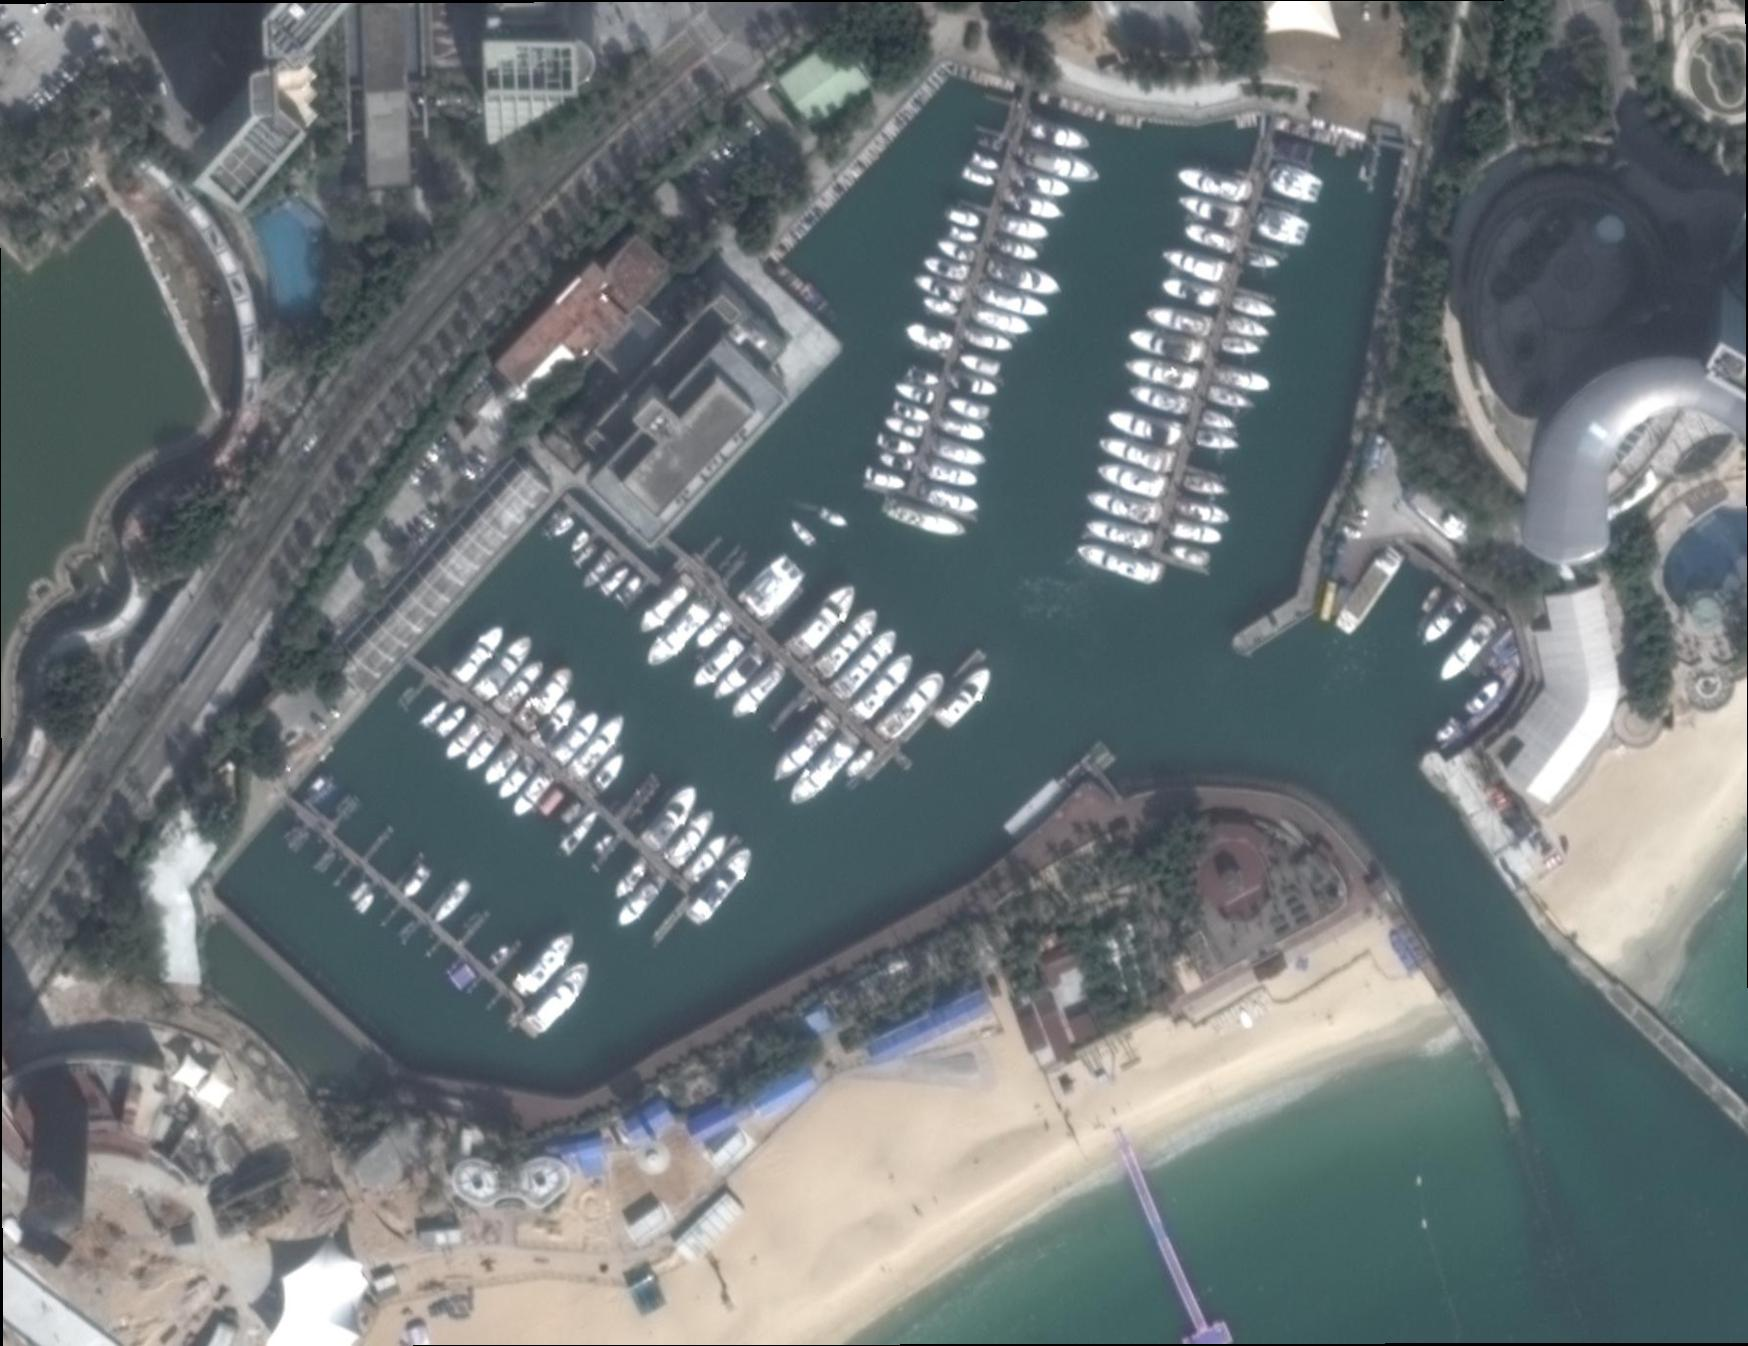harbor: (621, 437, 998, 809), (1066, 106, 1351, 599), (375, 599, 747, 944), (856, 81, 1113, 536), (262, 755, 569, 1034), (1102, 1120, 1235, 1345), (537, 488, 669, 621), (617, 772, 663, 826), (649, 894, 694, 944), (767, 686, 812, 734), (590, 833, 624, 874), (327, 796, 361, 834), (362, 826, 396, 864), (458, 911, 492, 946), (395, 853, 426, 891), (426, 881, 457, 918), (400, 676, 431, 710), (492, 942, 523, 976), (699, 534, 726, 561), (400, 919, 424, 947), (332, 861, 356, 888), (380, 901, 403, 929), (313, 845, 337, 871), (467, 976, 486, 995), (426, 939, 445, 959), (485, 993, 503, 1011)
ship: (781, 578, 863, 665), (1332, 544, 1407, 638), (515, 959, 595, 1042), (786, 725, 863, 812), (684, 843, 759, 929), (769, 706, 846, 788), (643, 592, 718, 674), (873, 667, 950, 745), (827, 625, 904, 703), (809, 605, 884, 684), (511, 927, 581, 1002), (509, 662, 580, 737), (470, 631, 539, 706), (636, 780, 706, 854), (1073, 536, 1165, 591), (849, 650, 918, 722), (566, 710, 632, 785), (1435, 612, 1502, 687), (1017, 137, 1105, 192), (932, 662, 1000, 732), (880, 495, 969, 543), (981, 252, 1065, 303), (727, 659, 789, 725), (636, 571, 697, 639), (710, 640, 772, 706), (660, 804, 720, 872), (450, 621, 509, 684), (977, 277, 1054, 327), (1085, 484, 1164, 530), (547, 707, 605, 771), (1127, 321, 1208, 366), (491, 656, 547, 720), (1106, 403, 1185, 448), (1097, 431, 1178, 475), (1177, 161, 1254, 205), (614, 870, 669, 930), (1096, 457, 1171, 501), (1124, 351, 1201, 393), (692, 635, 745, 693), (1264, 158, 1327, 208), (1083, 513, 1155, 556), (1252, 204, 1315, 252), (680, 831, 733, 889), (1177, 187, 1245, 230), (1163, 242, 1229, 286), (1024, 113, 1092, 156), (1146, 298, 1215, 339), (532, 696, 583, 751), (1421, 592, 1472, 648), (916, 478, 983, 519), (969, 303, 1035, 341), (1003, 187, 1066, 226), (1161, 271, 1225, 311), (511, 766, 556, 821), (494, 751, 539, 804), (1129, 380, 1194, 417), (444, 713, 489, 763), (462, 724, 505, 776), (923, 457, 983, 493), (1011, 165, 1072, 201), (931, 434, 989, 471), (1174, 495, 1232, 532), (559, 807, 602, 855), (1212, 361, 1271, 396), (996, 209, 1052, 246), (1182, 219, 1239, 256), (482, 739, 525, 788), (431, 878, 474, 926), (1170, 516, 1225, 551), (904, 318, 955, 356), (946, 368, 1001, 402), (1205, 382, 1260, 416), (588, 751, 629, 796), (1462, 677, 1508, 718), (921, 250, 974, 284), (912, 270, 967, 303), (936, 411, 989, 445), (990, 232, 1042, 266), (694, 609, 735, 652), (962, 325, 1017, 356), (614, 855, 651, 901), (581, 549, 618, 592), (1195, 427, 1243, 458), (1225, 312, 1271, 344), (1230, 293, 1278, 322), (1168, 539, 1213, 570), (861, 464, 908, 493), (1182, 472, 1230, 501), (946, 392, 990, 421), (434, 703, 470, 739), (957, 349, 1003, 378), (875, 430, 919, 458), (894, 379, 938, 407), (402, 864, 434, 901), (891, 397, 932, 426), (936, 236, 977, 264), (844, 745, 877, 780), (1219, 334, 1262, 361), (1199, 409, 1242, 435), (1243, 247, 1283, 276), (921, 293, 962, 320), (600, 564, 631, 599), (882, 414, 925, 440), (419, 698, 450, 730), (617, 573, 645, 607), (948, 204, 983, 230), (905, 365, 942, 390), (962, 165, 998, 189), (877, 451, 915, 474), (1433, 717, 1461, 745), (817, 506, 850, 529), (567, 529, 594, 556), (791, 517, 816, 546), (969, 153, 1003, 174), (949, 226, 980, 247), (552, 515, 576, 542), (354, 891, 378, 916), (489, 943, 512, 964), (349, 881, 372, 902)
